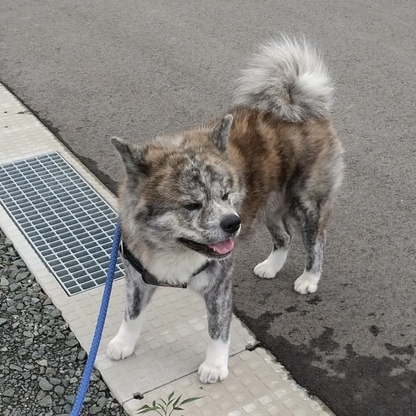akita: (100, 29, 348, 388)
